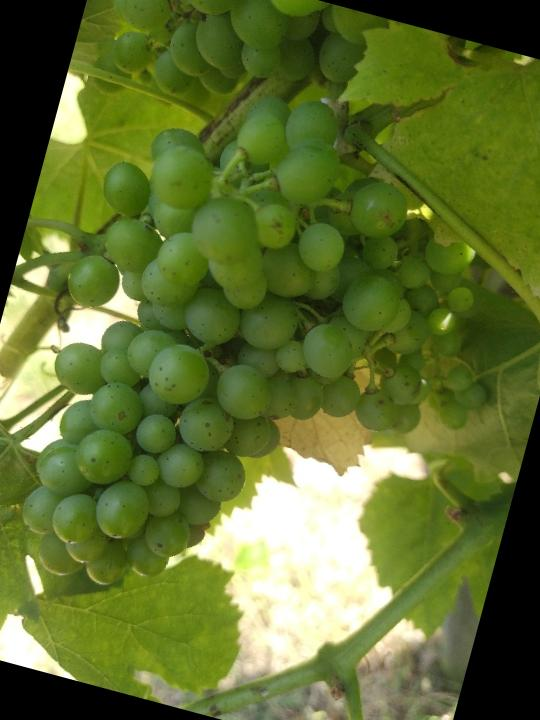grape: (0, 47, 540, 678)
